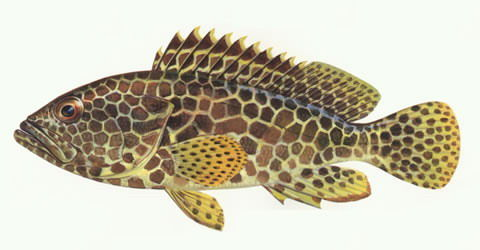fish: (13, 25, 461, 232)
